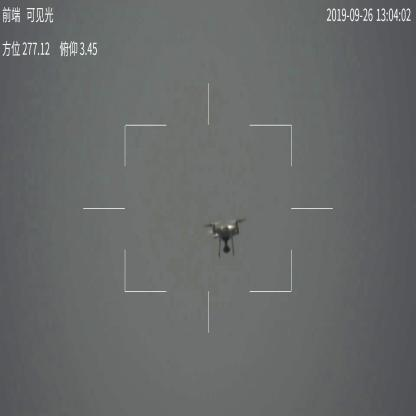uav: (204, 214, 245, 256)
